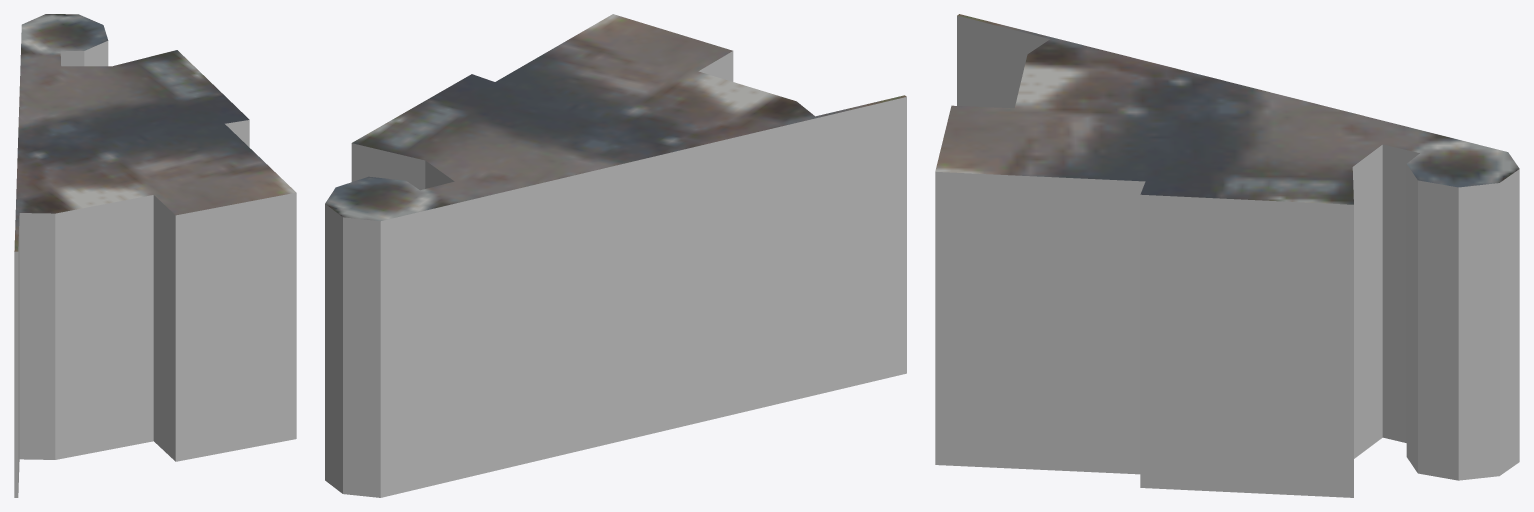
File: DEBW_0010007TvlU.gltf
3 renders of one model, left to right at view 1: azimuth 30°, elevation 25°; view 2: azimuth 150°, elevation 25°; view 3: azimuth 270°, elevation 25°, orthographic. The views are drawn at different scales.
Parts seen in each view (by area): view 1: Z_UP; view 2: Z_UP; view 3: Z_UP.
Part boxes in pixels (x1,y1,x2,y2): Z_UP: (14, 14, 296, 497); Z_UP: (325, 14, 906, 497); Z_UP: (935, 14, 1519, 497).
Bounding box in the file's own units: 13.65 × 9.78 × 17.67.
Materials: 2 (1 with a texture image).
